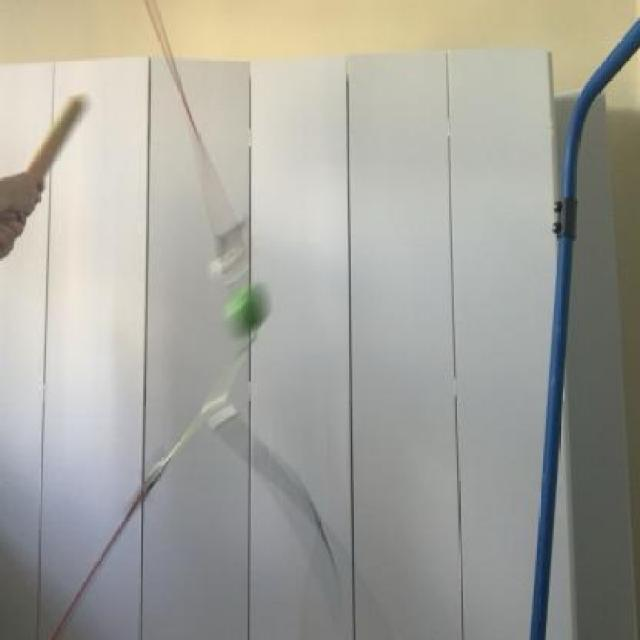baseball: (212, 280, 280, 352)
